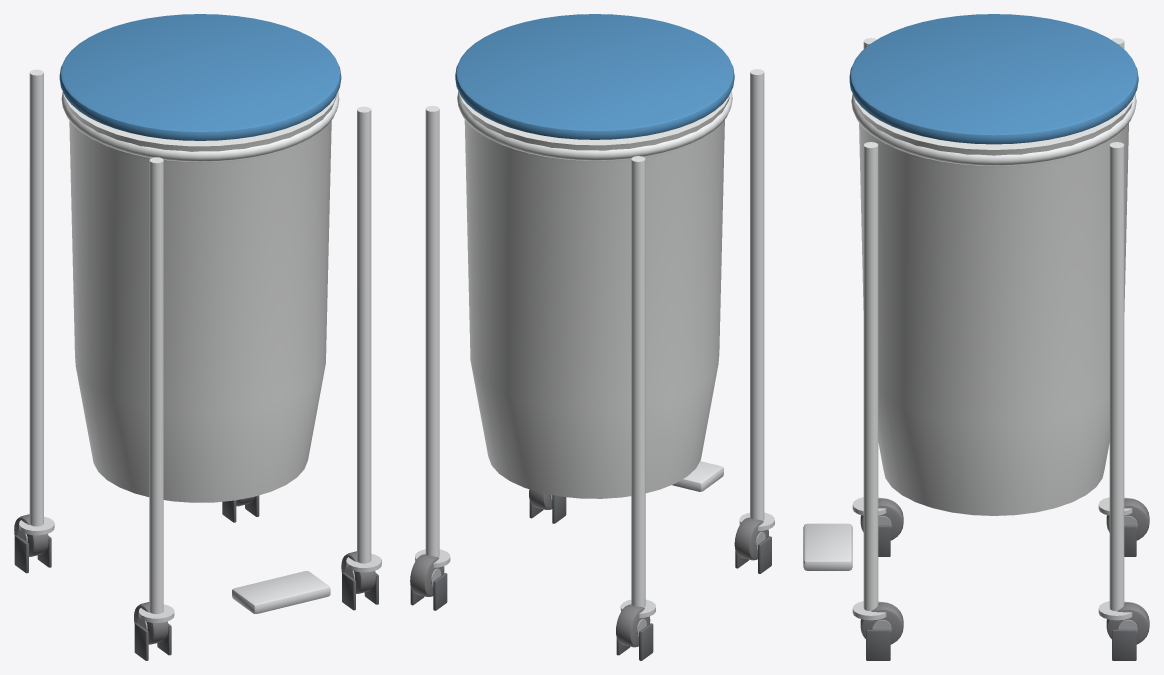
Rendered from LinenSkip.fbx.
The picture shows the model from 3 angles, left to right: view 1: azimuth 30°, elevation 25°; view 2: azimuth 150°, elevation 25°; view 3: azimuth 270°, elevation 25°; orthographic projection. The views are drawn at different scales.
Parts seen in each view (by area): view 1: LinenSkip_Mesh; view 2: LinenSkip_Mesh; view 3: LinenSkip_Mesh.
Part boxes in pixels (x1,y1,x2,y2): LinenSkip_Mesh: (14, 14, 381, 660); LinenSkip_Mesh: (410, 14, 774, 660); LinenSkip_Mesh: (803, 14, 1149, 660).
Bounding box in the file's own units: 0.47 × 0.95 × 0.563.
